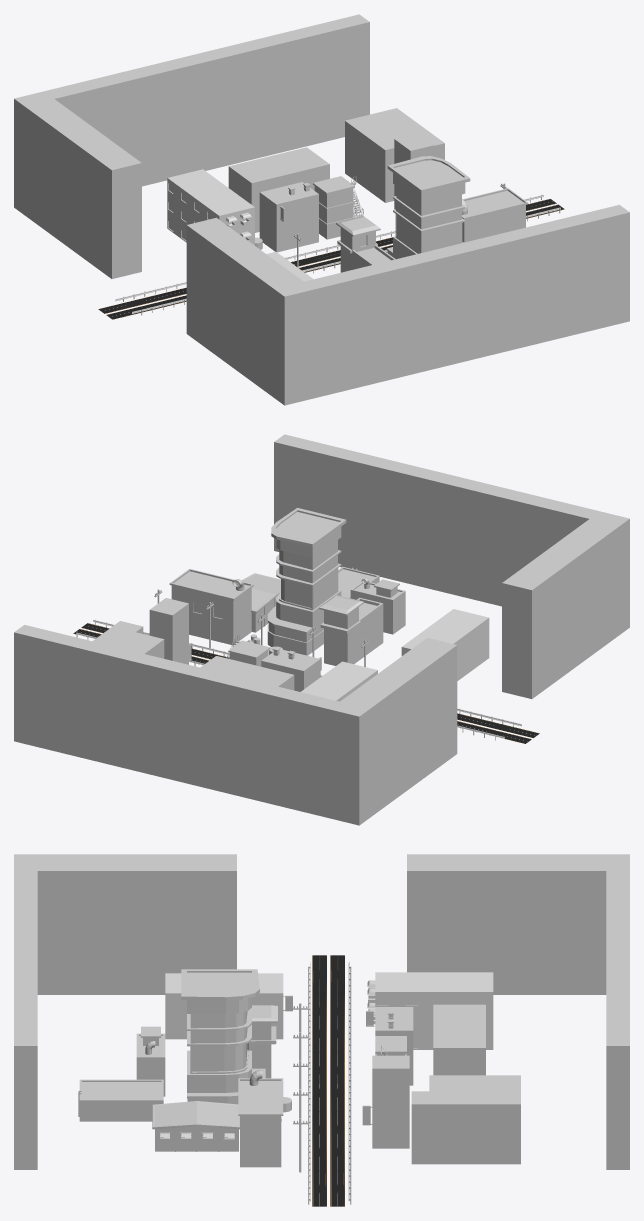
The model's file is town_v2.fbx.
3 renders of one model, top to bottom at view 1: azimuth 30°, elevation 25°; view 2: azimuth 150°, elevation 25°; view 3: azimuth 270°, elevation 25°, orthographic. The views are drawn at different scales.
Visible parts, largest first — view 1: Cube.013, Cube.015, Cube.014, Cube.012, Cube.001, Cube.004, Cube.002, Cube.009, Cube.010, Cube.003, Plane.001, Cube.011 (+1 smaller); view 2: Cube.015, Cube.013, Cube.014, Cube.009, Cube.010, Cube, Cube.011, Cube.001, Cube.005, Cube.012, Cube.004, Cube.002 (+5 smaller); view 3: Cube.013, Cube.015, Cube.012, Cube.014, Cube.001, Cube.008, Cube.009, Cube.004, Plane, Plane.001, Cube.011, Cube.006 (+8 smaller).
Boxes of the visible parts, bbox=[...] form: Cube.013: bbox=[186, 205, 629, 405]; Cube.015: bbox=[14, 14, 369, 278]; Cube.014: bbox=[386, 156, 470, 259]; Cube.012: bbox=[345, 108, 444, 202]; Cube.001: bbox=[167, 169, 254, 245]; Cube.004: bbox=[228, 147, 329, 232]; Cube.002: bbox=[259, 182, 318, 252]; Cube.009: bbox=[462, 188, 528, 242]; Cube.010: bbox=[336, 216, 395, 272]; Cube.003: bbox=[313, 176, 354, 239]; Plane.001: bbox=[98, 199, 556, 313]; Cube.011: bbox=[394, 133, 433, 209]; Cube.015: bbox=[14, 625, 457, 825]; Cube.013: bbox=[274, 434, 629, 698]; Cube.014: bbox=[267, 508, 346, 655]; Cube.009: bbox=[169, 569, 253, 645]; Cube.010: bbox=[319, 595, 383, 665]; Cube: bbox=[401, 609, 489, 680]; Cube.011: bbox=[149, 598, 188, 664]; Cube.001: bbox=[301, 661, 377, 701]; Cube.005: bbox=[350, 579, 405, 634]; Cube.012: bbox=[93, 621, 164, 658]; Cube.004: bbox=[200, 656, 294, 690]; Cube.002: bbox=[261, 649, 320, 691]; Cube.013: bbox=[14, 854, 236, 1169]; Cube.015: bbox=[407, 854, 629, 1169]; Cube.012: bbox=[411, 1075, 520, 1164]; Cube.014: bbox=[181, 969, 265, 1104]; Cube.001: bbox=[367, 972, 493, 1049]; Cube.008: bbox=[152, 1101, 239, 1151]; Cube.009: bbox=[238, 1078, 283, 1167]; Cube.004: bbox=[433, 1004, 485, 1075]; Plane: bbox=[312, 955, 326, 1206]; Plane.001: bbox=[330, 955, 344, 1206]; Cube.011: bbox=[372, 1055, 409, 1148]; Cube.006: bbox=[79, 1079, 163, 1121].
Size of the model in its own units: 10000 by 2366 by 10358.
